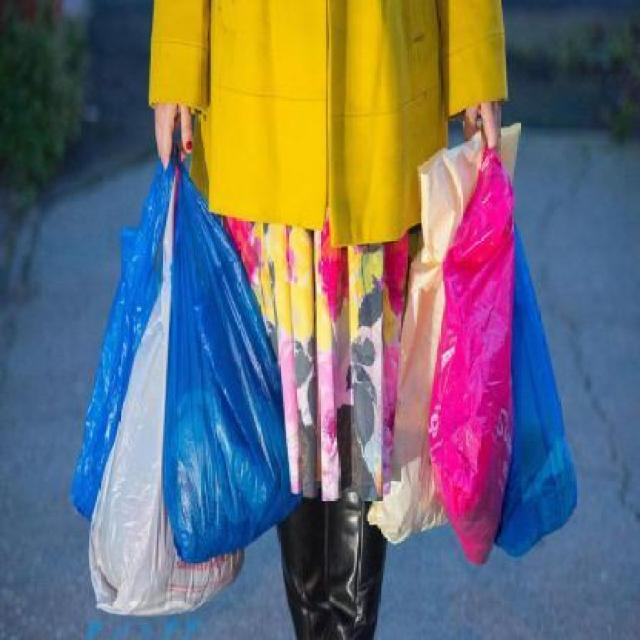plastic bag: (66, 154, 292, 612), (386, 157, 573, 574)
